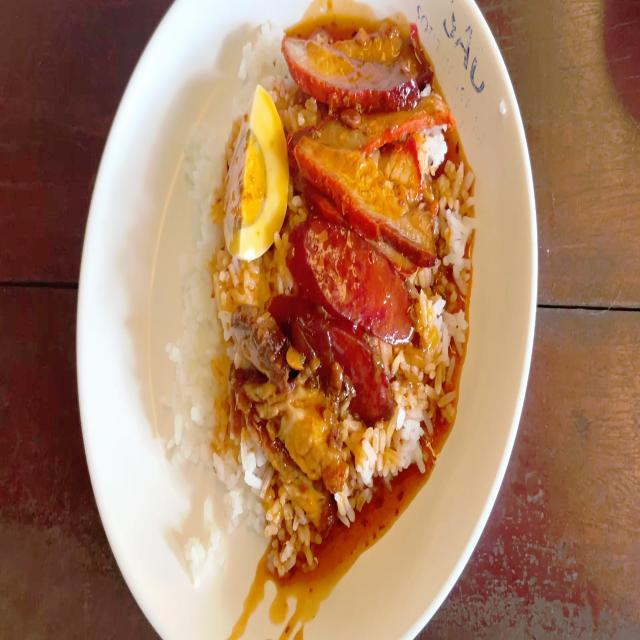boiled_egg: (228, 93, 280, 255)
chainese_sausage: (289, 213, 399, 396)
crispy_pork: (279, 375, 337, 520), (222, 307, 282, 442)
red_pork: (294, 29, 445, 230)
red_pork_and_crispy_pork: (200, 40, 452, 501)
rice: (404, 284, 452, 468), (184, 325, 231, 473)
